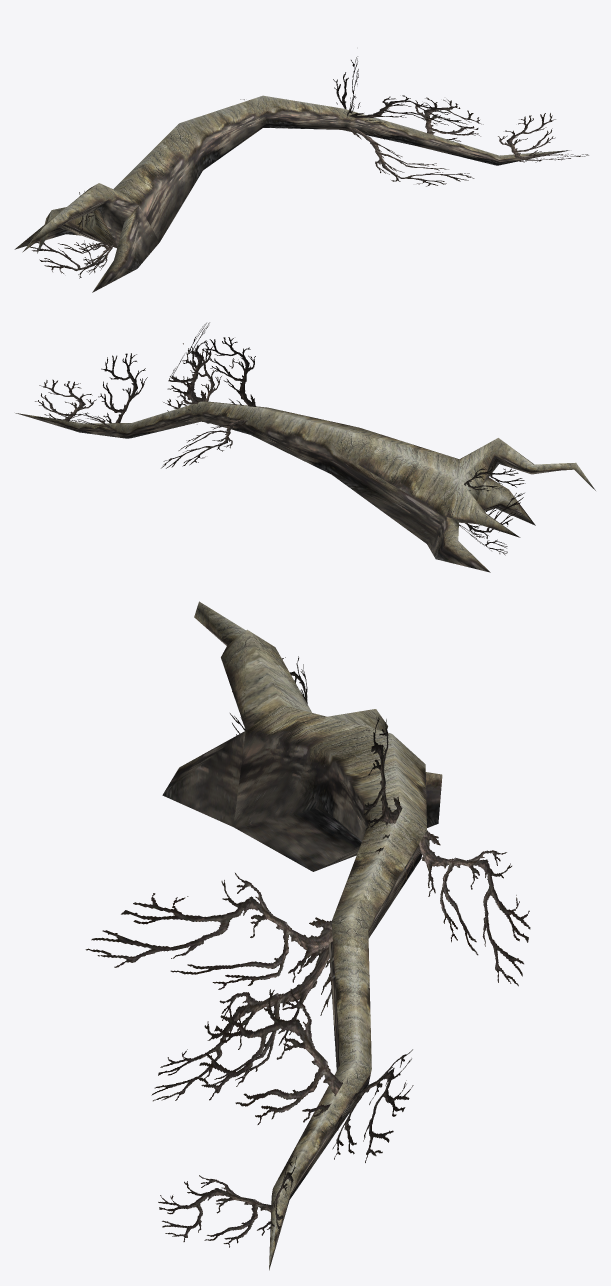
File: burningmidtree04.glb
The picture shows the model from 3 angles, top to bottom: view 1: azimuth 30°, elevation 25°; view 2: azimuth 150°, elevation 25°; view 3: azimuth 270°, elevation 25°; orthographic projection. The views are drawn at different scales.
Size of the model in its own units: 55.65 by 17.96 by 20.11.
2 materials, 2 textured.
